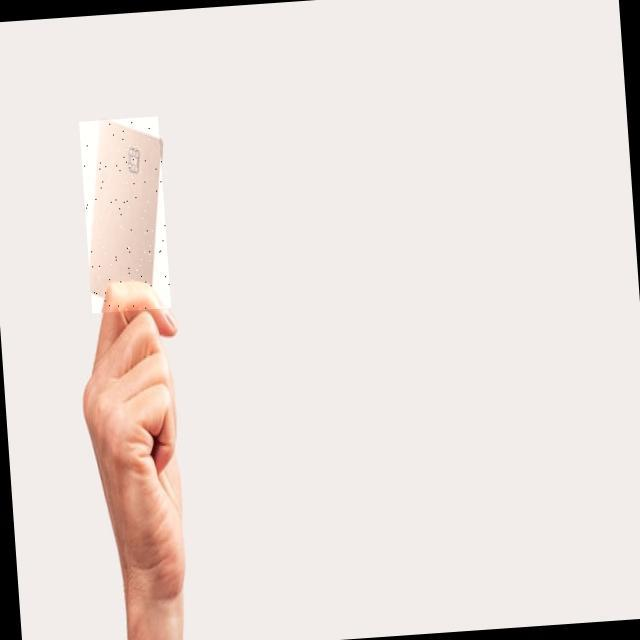payment_card: (77, 115, 168, 313)
